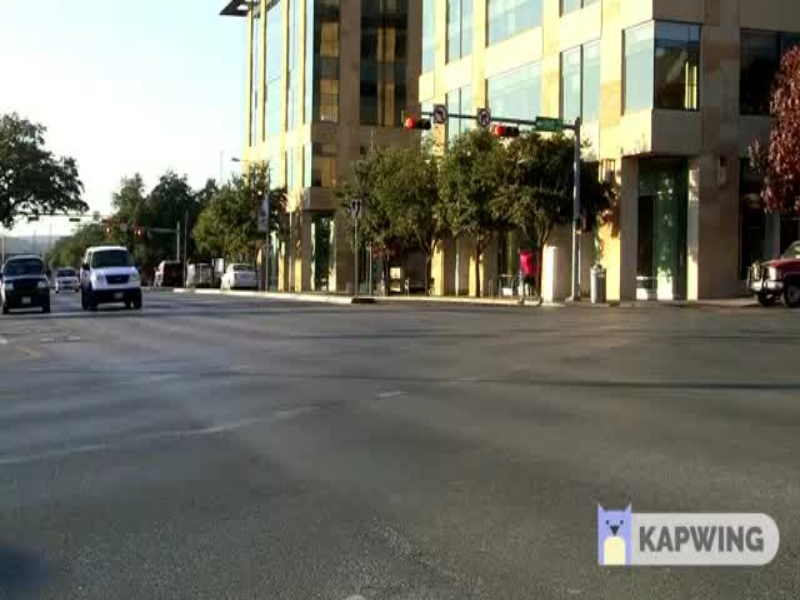suv: (70, 245, 149, 314), (1, 250, 54, 314)
